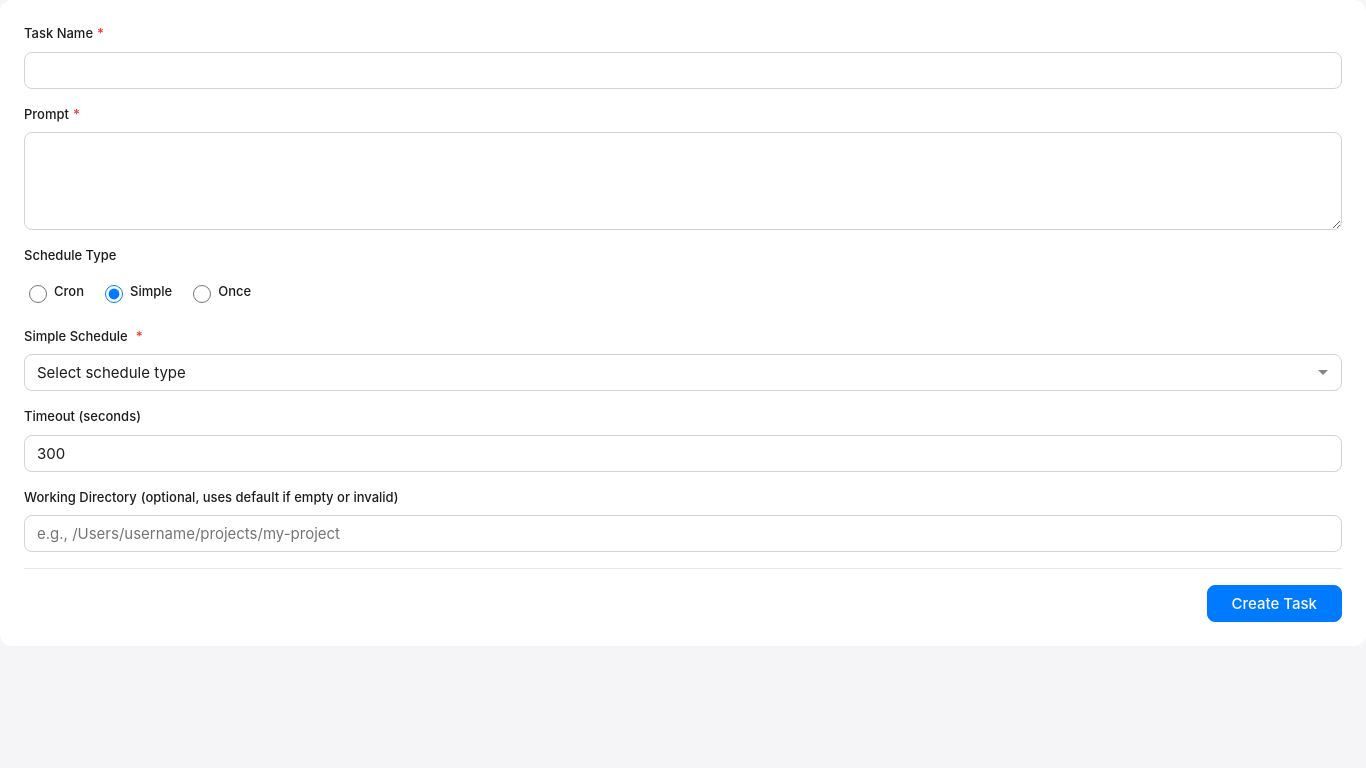
Test: TaskForm › Rendering › shows cron expression input when cron schedule type is selected
Click the radio button labelled "Cron".
click(38, 294)  # box [29,284,47,302]
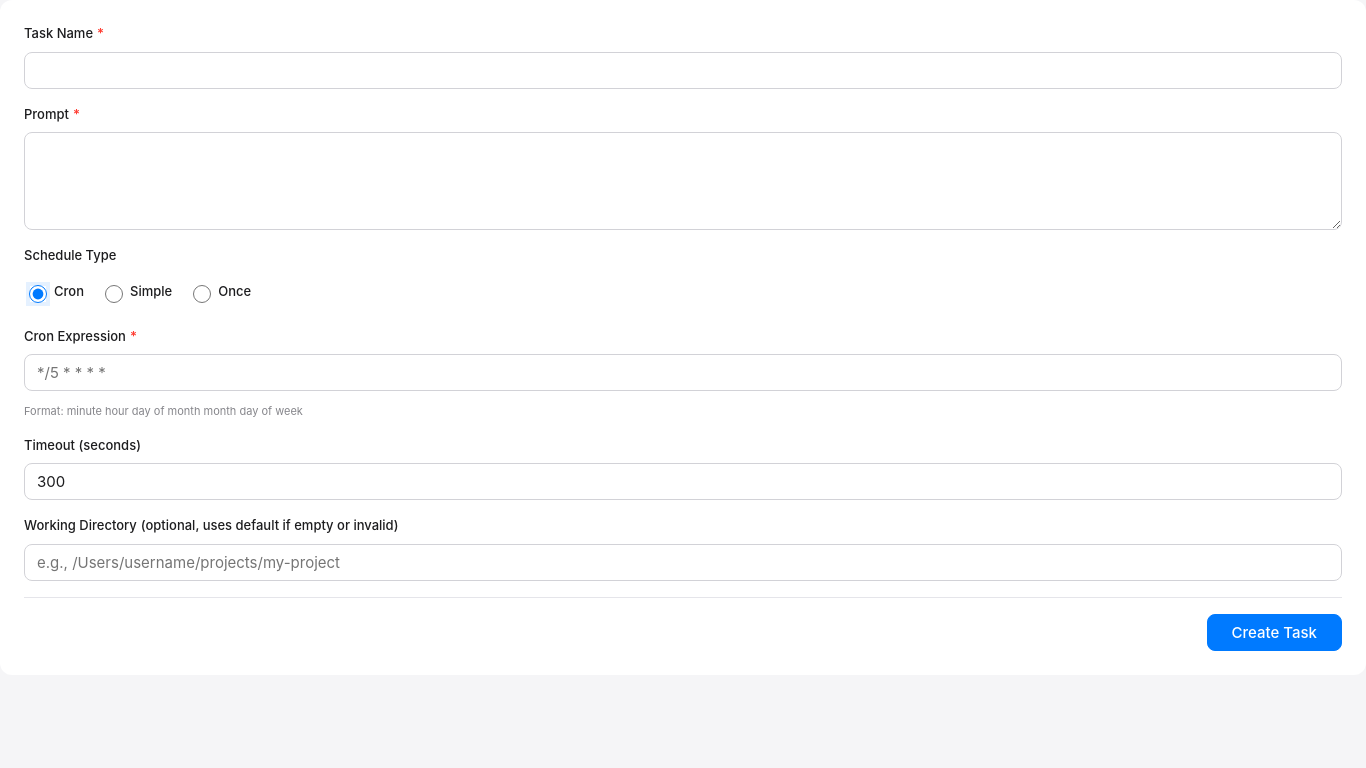
expect the field labelled "Cron Expression *" is shown: met, box [24,354,1342,391]
